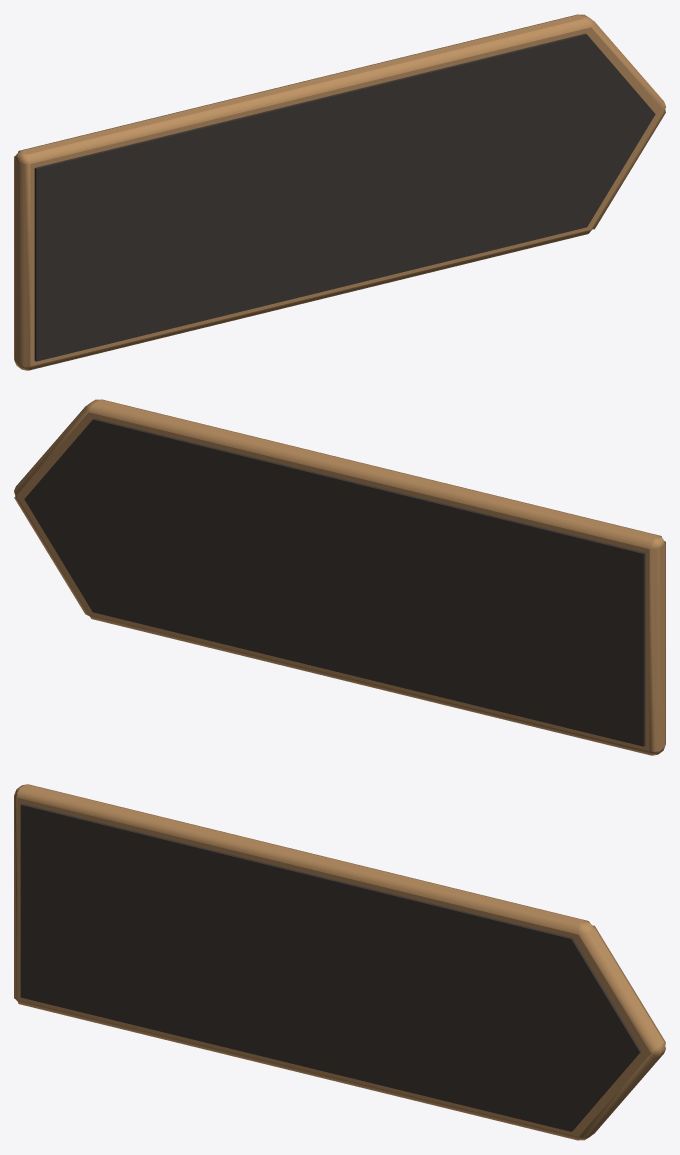
File: sign_arm_tall.glb
3 renders of one model, top to bottom at view 1: azimuth 30°, elevation 25°; view 2: azimuth 150°, elevation 25°; view 3: azimuth 330°, elevation 25°, orthographic.
Parts seen in each view (by area): view 1: body; view 2: body; view 3: body.
Part boxes in pixels (box(x1,y1,x2,y2)): body: box(14, 14, 665, 370); body: box(14, 399, 665, 755); body: box(14, 784, 665, 1140).
Size of the model in its own units: 3.51 by 1.12 by 0.148.
